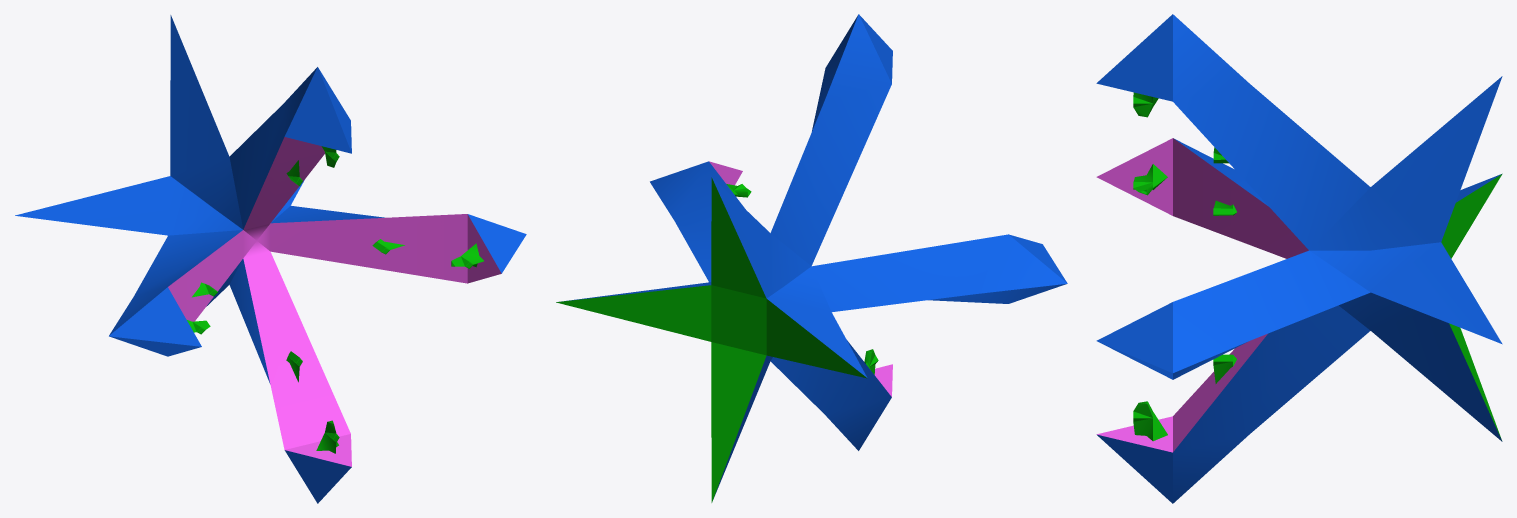
File: boss2.fbx
The picture shows the model from 3 angles, left to right: view 1: azimuth 30°, elevation 25°; view 2: azimuth 150°, elevation 25°; view 3: azimuth 270°, elevation 25°; orthographic projection. The views are drawn at different scales.
Parts seen in each view (by area): view 1: boss2; view 2: boss2; view 3: boss2, arm7, arm6.
Part boxes in pixels (<box>): boss2: <box>15,15,526,503</box>; boss2: <box>556,14,1067,502</box>; boss2: <box>1096,14,1502,503</box>; arm7: <box>1133,401,1167,441</box>; arm6: <box>1133,164,1167,195</box>.
Size of the model in its own units: 61.53 by 61.47 by 46.24.
Materials: 1 (1 with a texture image).
